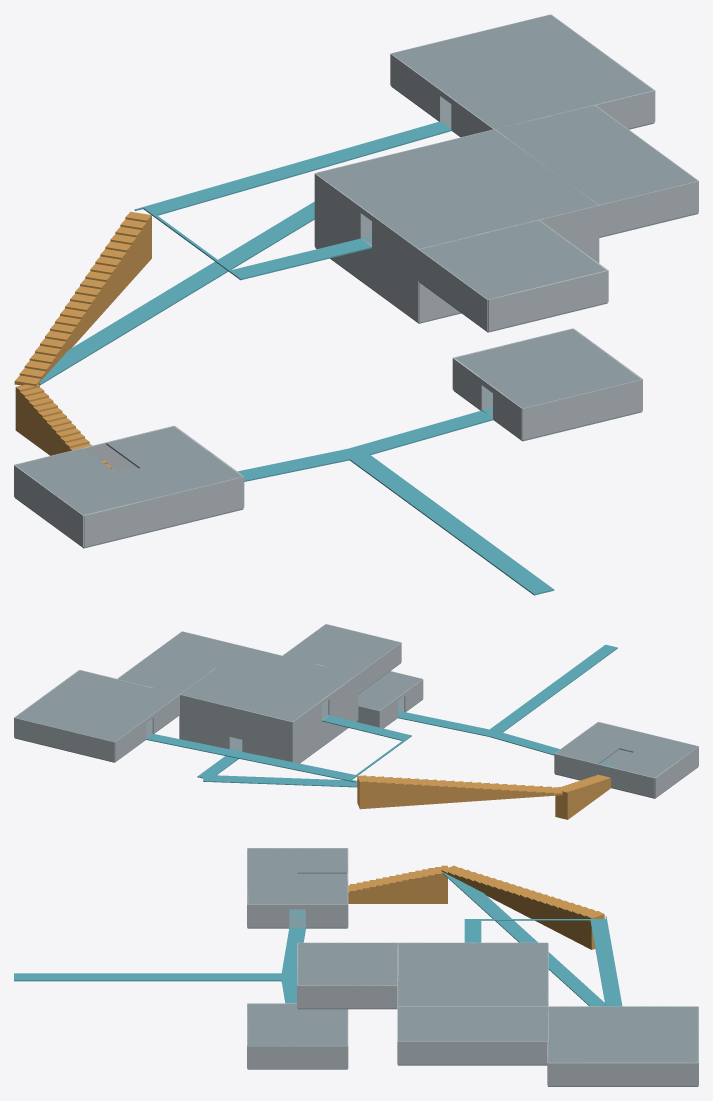
The model's file is rough-shell.glb.
3 renders of one model, top to bottom at view 1: azimuth 30°, elevation 25°; view 2: azimuth 150°, elevation 25°; view 3: azimuth 270°, elevation 25°, orthographic. The views are drawn at different scales.
Parts seen in each view (by area): view 1: Ceiling cap gallery, Ceiling cap chamber, Ceiling cap fork, Ceiling cap wash, Ceiling cap alcove, Wall shelter S, L15 support 0, L12 support 0, Wall alcove S, Wall lower-cave W, Wall wash S, Wall fork S (+22 smaller); view 2: Ceiling cap gallery, Ceiling cap chamber, Ceiling cap fork, Ceiling cap alcove, Wall gallery N, Wall chamber N, Wall shelter N, L12 support 0, Wall lower-cave W, Ceiling cap wash, Wall lower-cave N.001, L15 support 0 (+27 smaller); view 3: Ceiling cap gallery, Ceiling cap chamber, Ceiling cap fork, Ceiling cap alcove, Ceiling cap wash, Wall chamber E, Wall fork E, Wall alcove E, Wall wash E, L15 support 0, L12 support 0, Ceiling cap shelter (+13 smaller).
Part boxes in pixels (box(x1,y1,x2,y2)): Ceiling cap gallery: box(316, 129, 597, 248); Ceiling cap chamber: box(392, 14, 653, 129); Ceiling cap fork: box(496, 105, 697, 204); Ceiling cap wash: box(455, 329, 641, 408); Ceiling cap alcove: box(419, 220, 605, 299); Wall shelter S: box(83, 476, 243, 546); L15 support 0: box(39, 201, 314, 385); L12 support 0: box(134, 121, 452, 216); Wall alcove S: box(488, 270, 608, 331); Wall lower-cave W: box(314, 205, 418, 322); Wall wash S: box(522, 379, 642, 439); Wall fork S: box(599, 181, 698, 236); Ceiling cap gallery: box(180, 647, 357, 721); Ceiling cap chamber: box(15, 670, 179, 741); Ceiling cap fork: box(117, 631, 244, 694); Ceiling cap alcove: box(283, 624, 400, 674); Wall gallery N: box(180, 694, 292, 741); Wall chamber N: box(14, 717, 114, 761); Wall shelter N: box(554, 753, 654, 797); L12 support 0: box(146, 733, 356, 782); Wall lower-cave W: box(292, 694, 358, 763); Ceiling cap wash: box(358, 671, 422, 710); Wall lower-cave N.001: box(179, 714, 230, 749); L15 support 0: box(203, 775, 357, 787); Ceiling cap gallery: box(398, 943, 547, 1006); Ceiling cap chamber: box(548, 1006, 698, 1062); Ceiling cap fork: box(398, 1007, 547, 1041); Ceiling cap alcove: box(297, 943, 397, 985); Ceiling cap wash: box(247, 1004, 347, 1045); Wall chamber E: box(548, 1062, 698, 1085); Wall fork E: box(398, 1041, 547, 1064); Wall alcove E: box(297, 985, 397, 1008); Wall wash E: box(247, 1045, 347, 1068); L15 support 0: box(443, 873, 605, 1006); L12 support 0: box(590, 916, 622, 1006); Ceiling cap shelter: box(297, 848, 347, 873).
Size of the model in its own units: 78.16 by 11.16 by 82.08.
